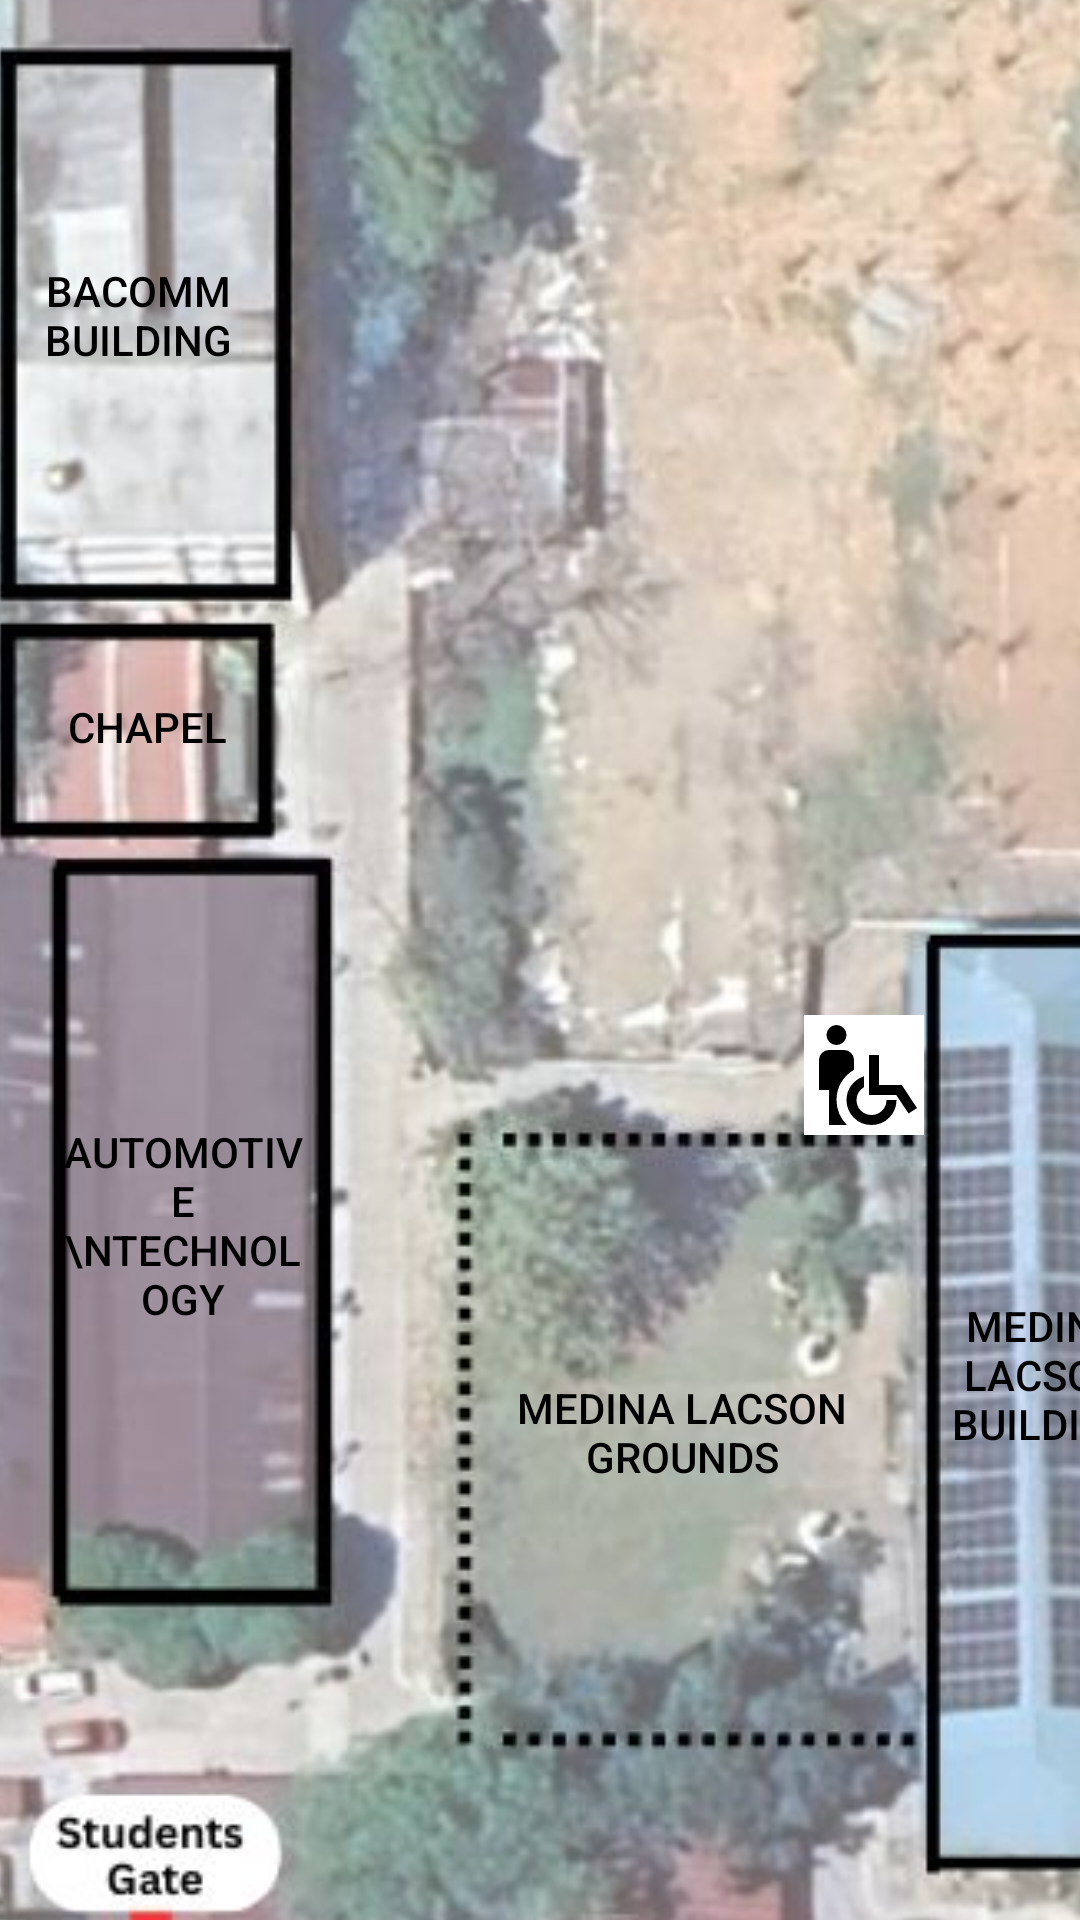

Where to tap for icons on this 1080*1920 app screen, as (x=x, y=y):
wheelchair: (x=864, y=1075)
